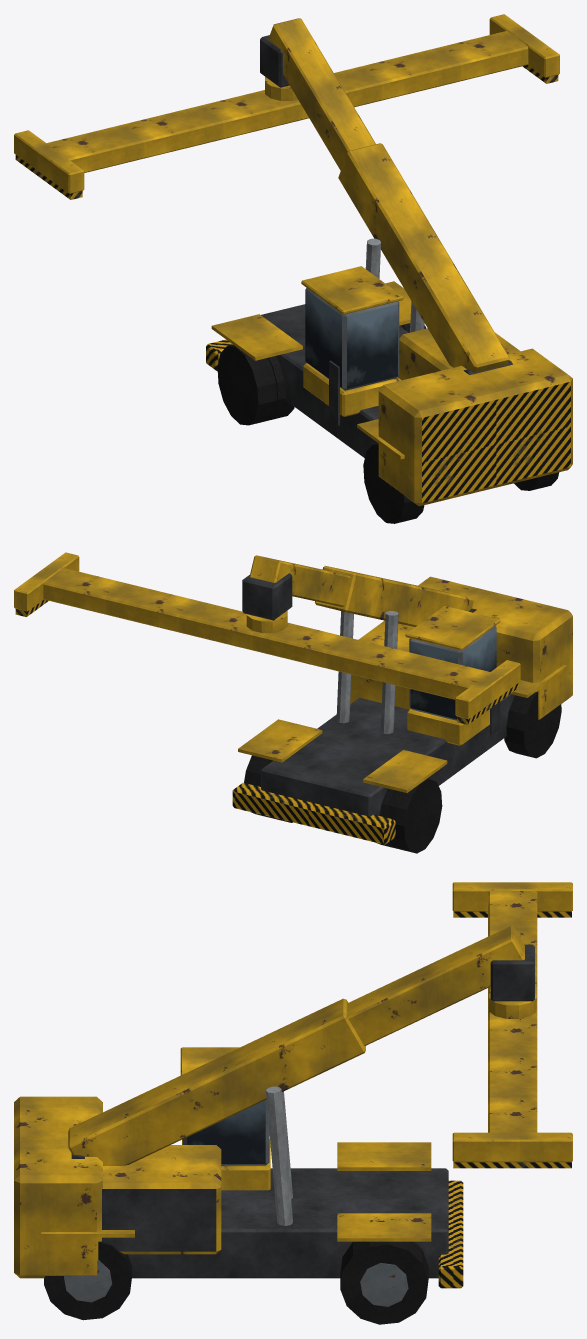
Rendered from c_reach.glb.
The picture shows the model from 3 angles, top to bottom: view 1: azimuth 30°, elevation 25°; view 2: azimuth 150°, elevation 25°; view 3: azimuth 270°, elevation 25°; orthographic projection. The views are drawn at different scales.
Visible parts, largest first — view 1: c_reach; view 2: c_reach; view 3: c_reach.
Boxes of the visible parts, bbox=[...] form: c_reach: bbox=[14, 14, 572, 523]; c_reach: bbox=[14, 552, 572, 853]; c_reach: bbox=[14, 882, 572, 1324].
Size of the model in its own units: 12.4 by 8 by 11.32.
Materials: 1 (1 with a texture image).
